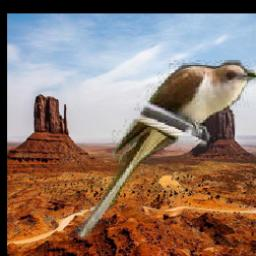Cuckoo: (75, 61, 256, 242)
